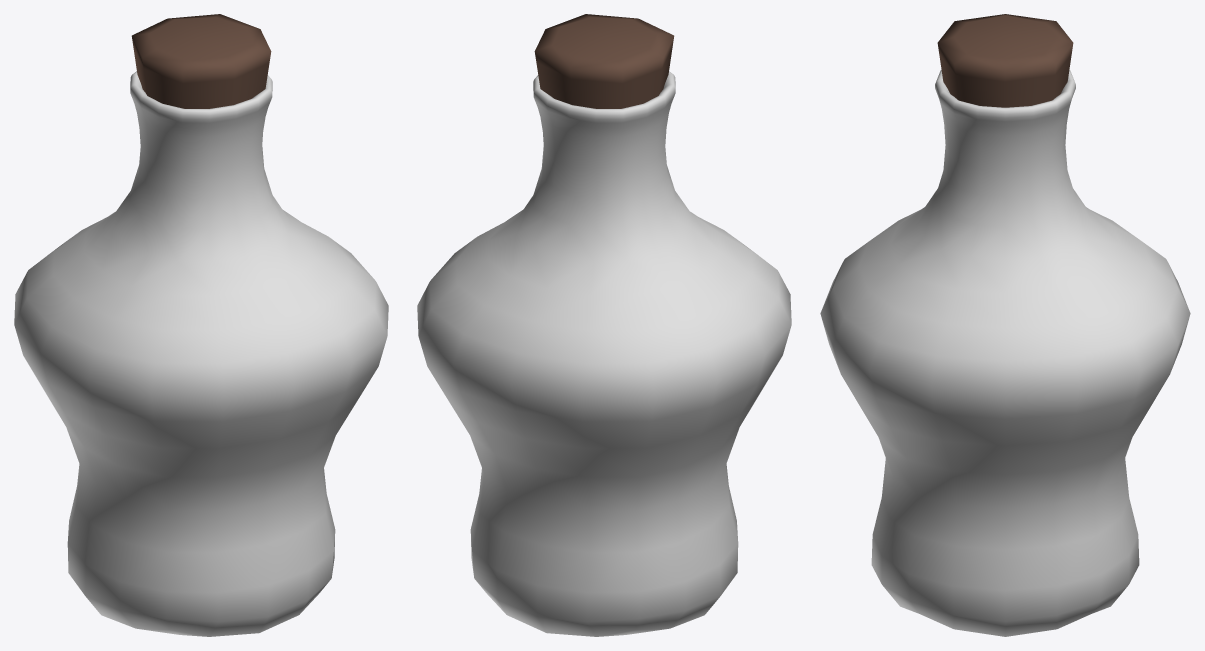
Rendered from SM_Potion3_Filled.fbx.
3 views of the same model, side by side, from view 1: azimuth 30°, elevation 25°; view 2: azimuth 150°, elevation 25°; view 3: azimuth 270°, elevation 25° (orthographic).
Visible parts, largest first — view 1: SM_Potion3_Filled; view 2: SM_Potion3_Filled; view 3: SM_Potion3_Filled.
Boxes of the visible parts, box(x1,y1,x2,y2) form: SM_Potion3_Filled: box(14, 14, 388, 636); SM_Potion3_Filled: box(417, 14, 791, 636); SM_Potion3_Filled: box(820, 14, 1190, 636).
Bounding box in the file's own units: 71.87 × 122 × 71.87.
